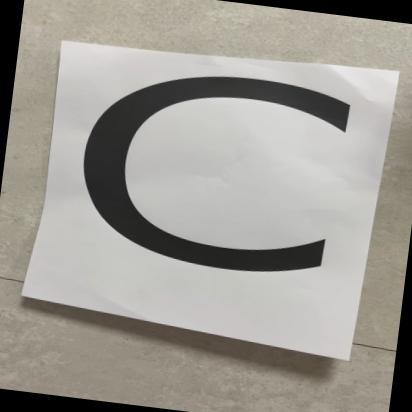seat: (38, 39, 407, 348)
